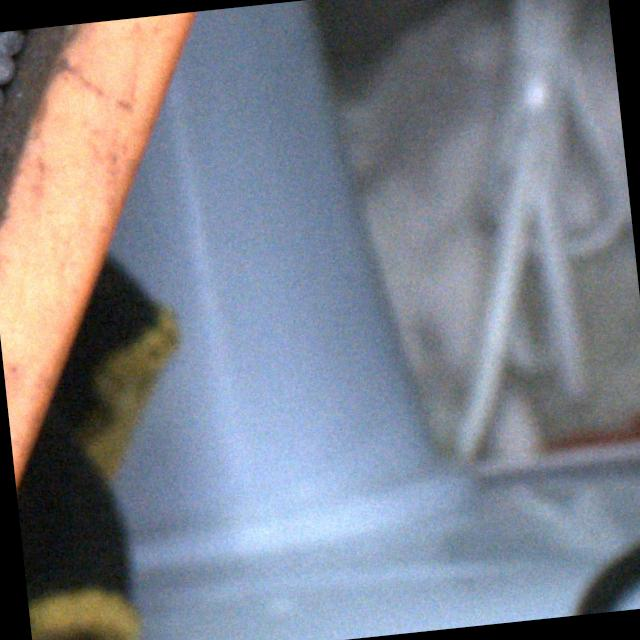tool: (0, 29, 29, 53), (0, 50, 18, 84)
